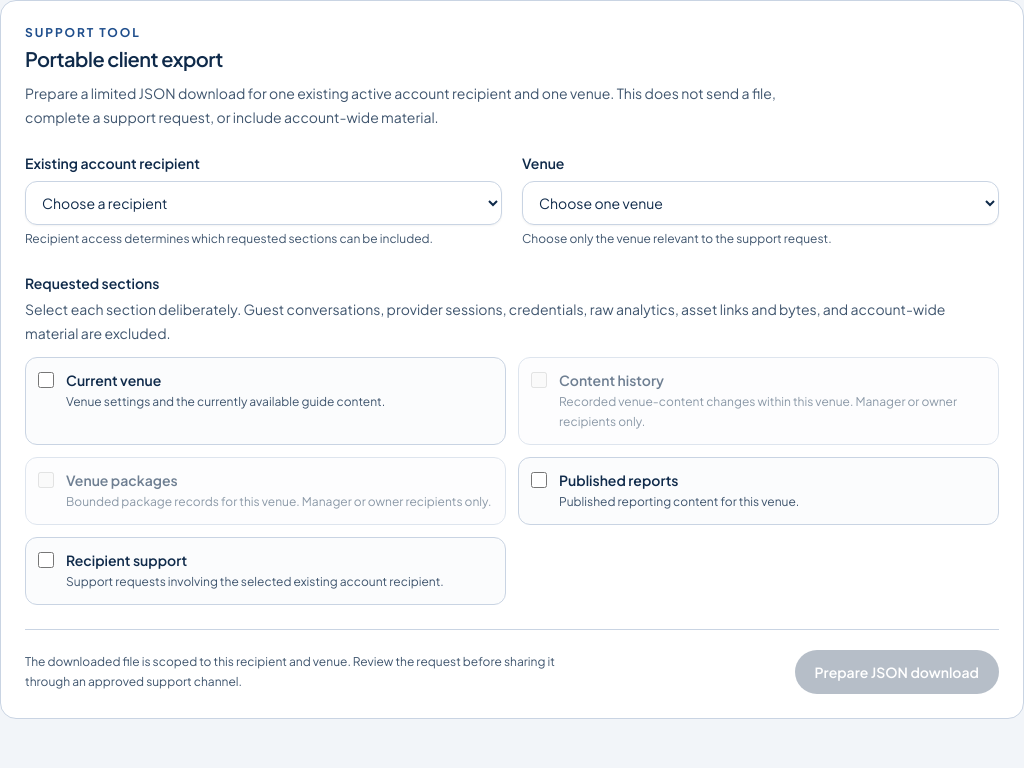
Test case: SupportPortableExportForm › downloads the exact response bytes once and immediately reports the limited scope
Select "Avery Operator with a deliberately long name for the select control · avery@exam" in the dropdown labelled "Existing account recipient" at (264, 203), box [25,181,502,225]
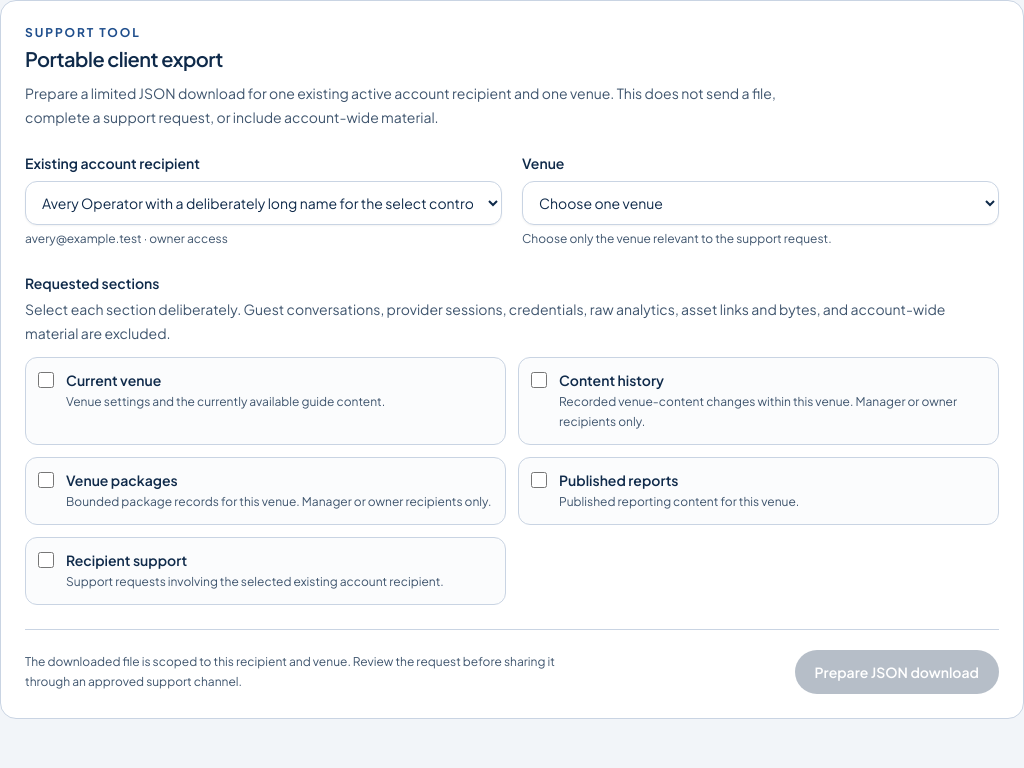
Select "Riverside Aquarium with an intentionally long venue label" in the dropdown labelled "Venue" at (760, 203), box [522,181,999,225]
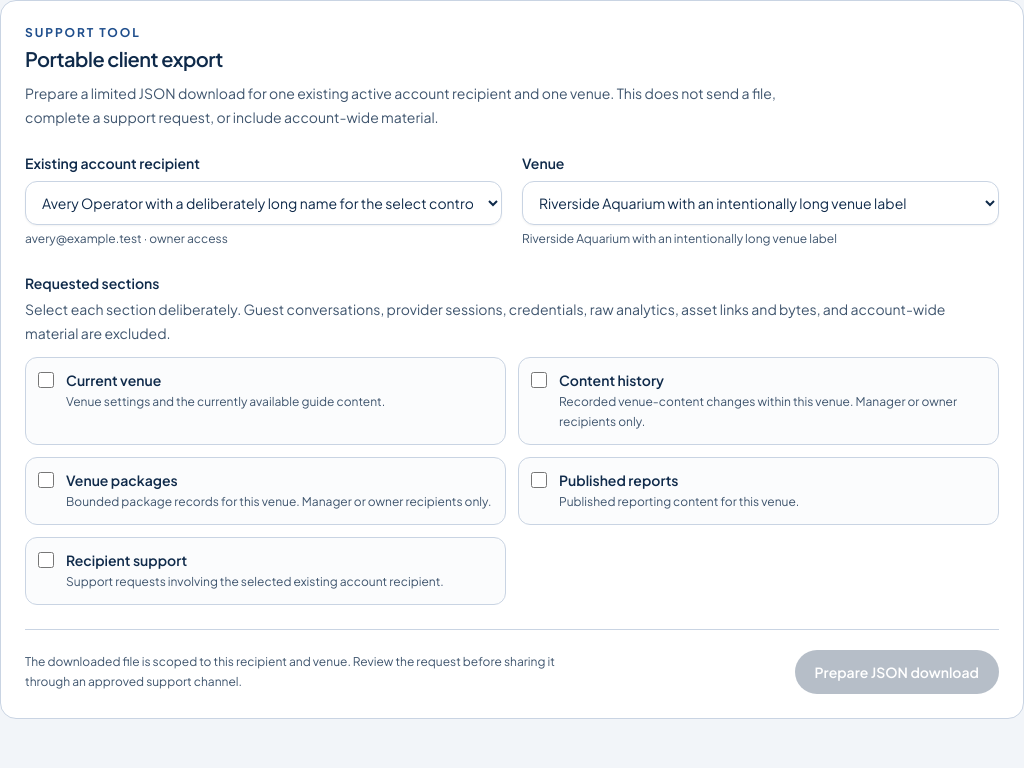
Click the checkbox labelled "Current venue".
click(46, 380)  # box [38,372,54,388]
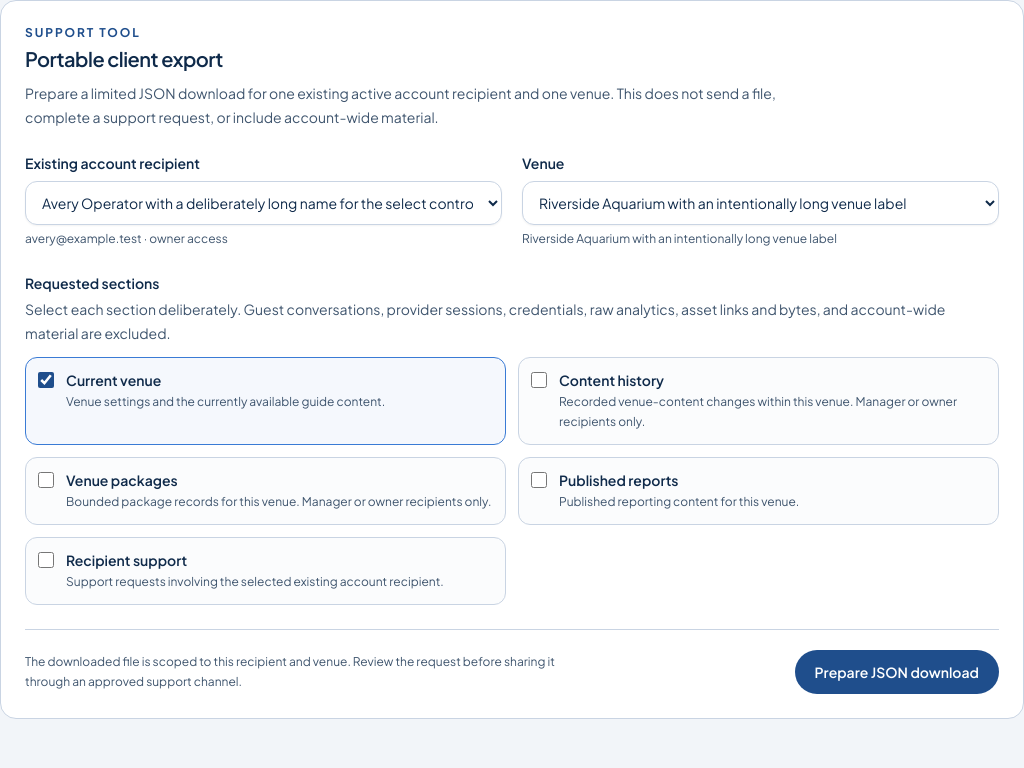
Click the button "Prepare JSON download".
click(897, 672)  # box [794,650,999,694]
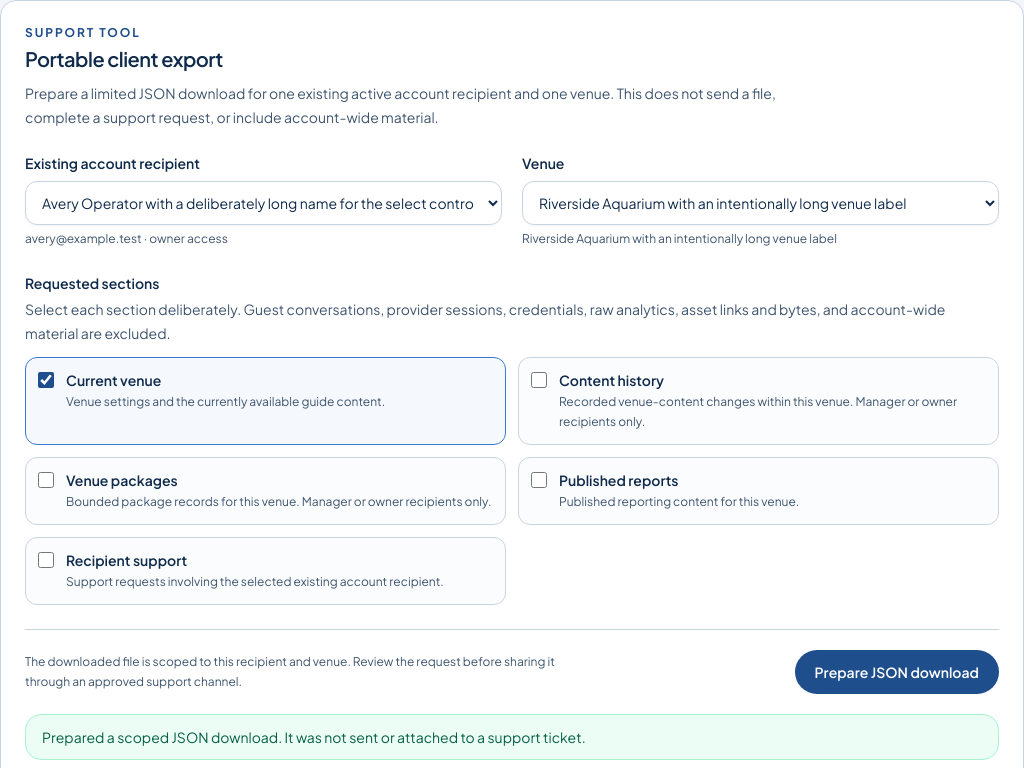
Expected: the text "Prepared a scoped JSON download. It was not sent or attached to a support ticket." is shown, [42,728,586,746]
